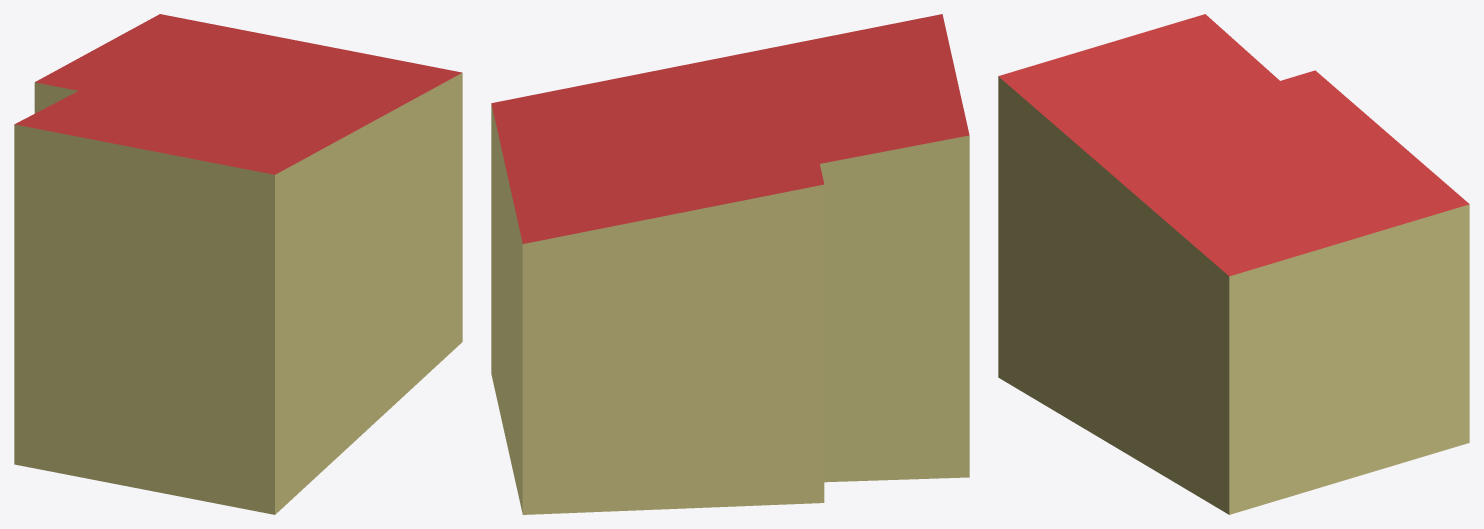
The picture shows the model from 3 angles, left to right: view 1: azimuth 30°, elevation 25°; view 2: azimuth 150°, elevation 25°; view 3: azimuth 270°, elevation 25°; orthographic projection. The views are drawn at different scales.
Size of the model in its own units: 9.39 by 9.37 by 6.61.
